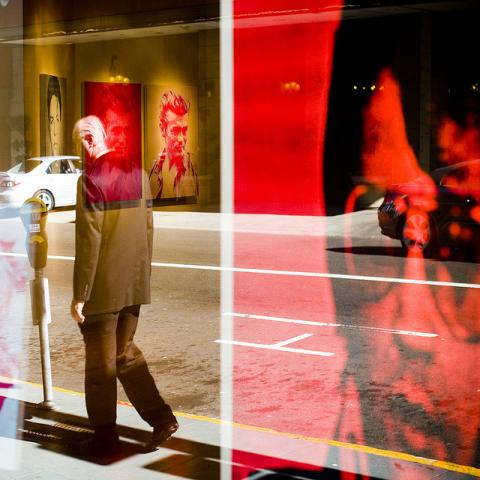car: (0, 156, 88, 211)
